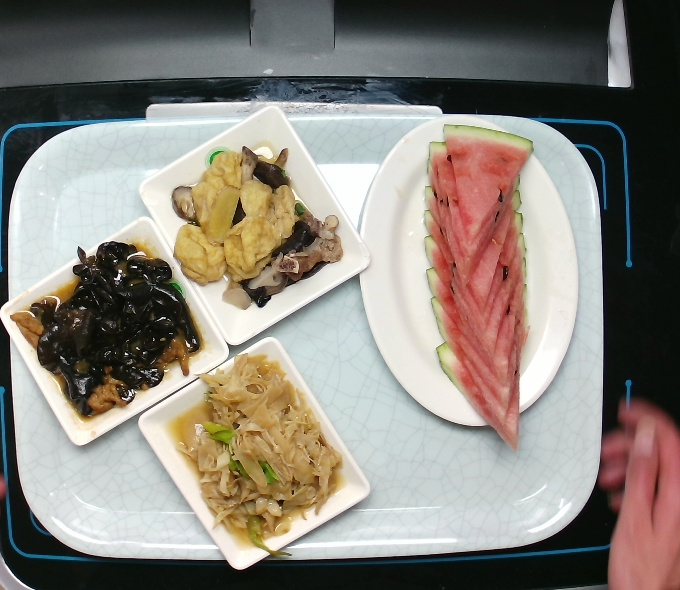wcq-LuSun: (169, 347, 345, 563)
wcq-MuErChaoRou: (11, 236, 209, 427)
wcq-XiGua: (420, 121, 554, 453)
wcq-YouPaoPaiGu: (167, 141, 347, 322)
